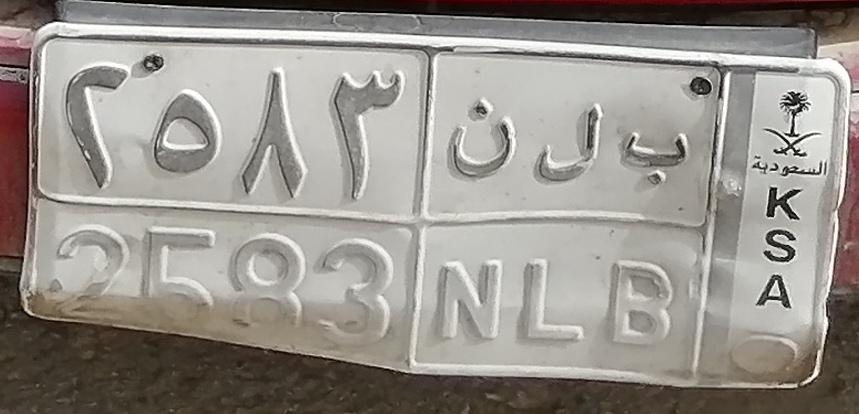2: (50, 60, 134, 329)
3: (315, 67, 412, 347)
5: (135, 90, 225, 330)
8: (228, 68, 313, 341)
B: (609, 130, 690, 347)
L: (522, 102, 608, 346)
N: (434, 95, 519, 341)
